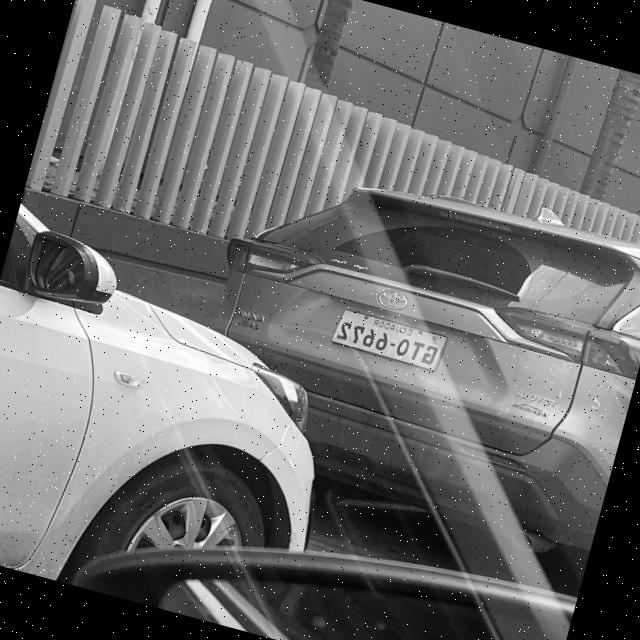Placa: (331, 311, 445, 370)
